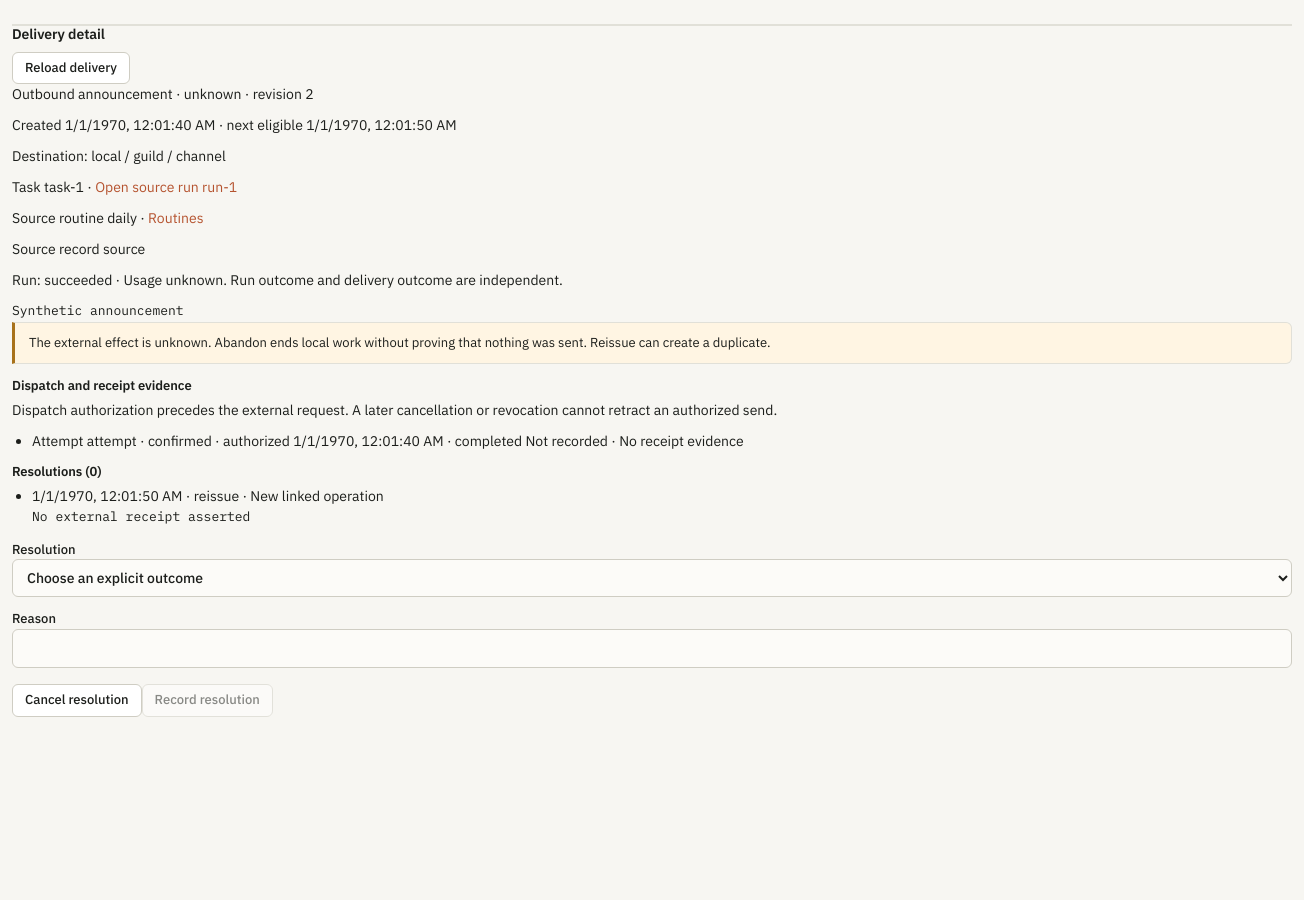
Test: uses the owner's exact uncertain attempt IDs when old conflicts leave the history window
Select "Affirmative not-sent evidence" in the dropdown labelled "Resolution". click: (652, 578)
box: [12,560,1292,598]
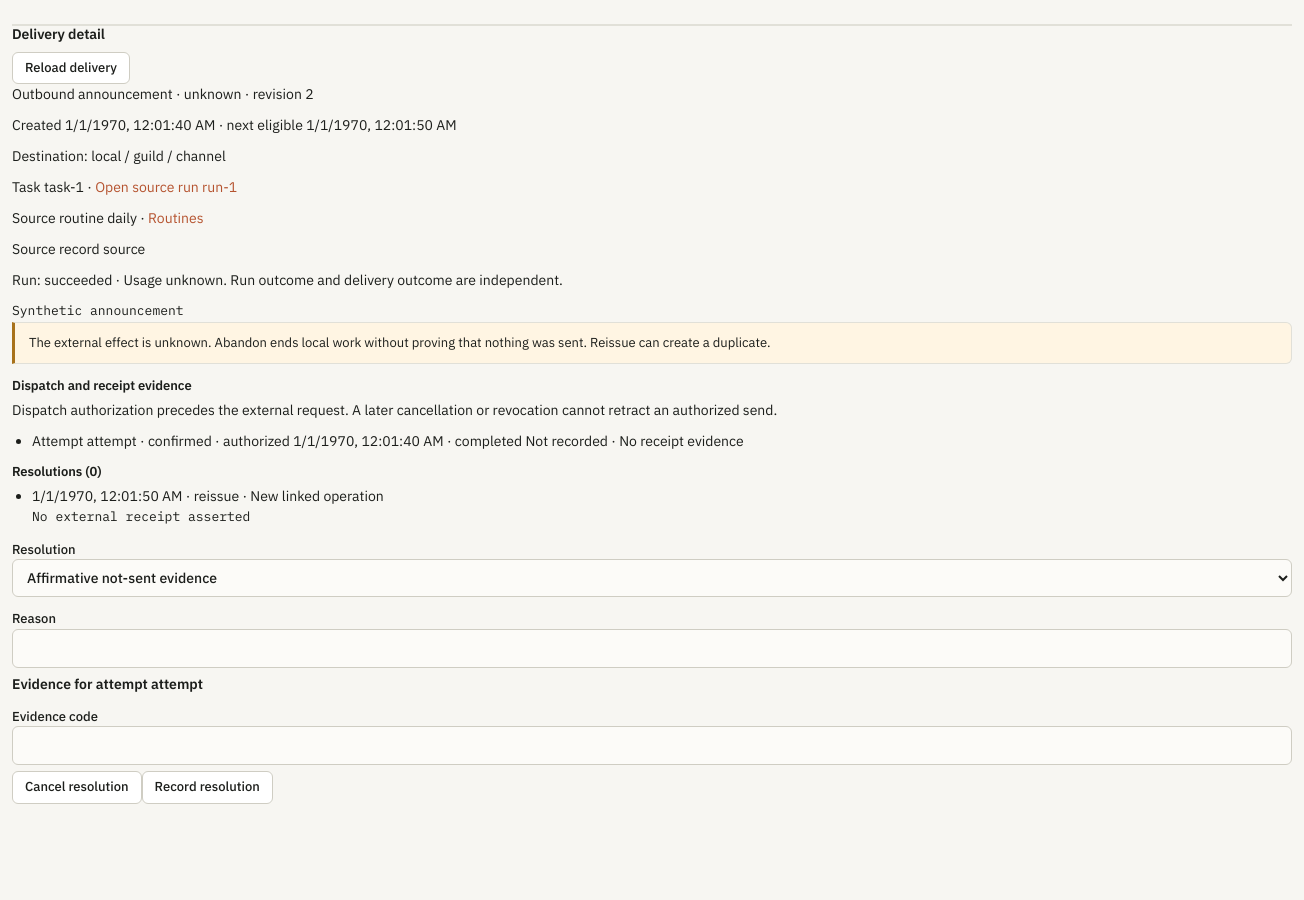
Result: the text "Evidence for attempt attempt" is shown at [12,674,203,695]
